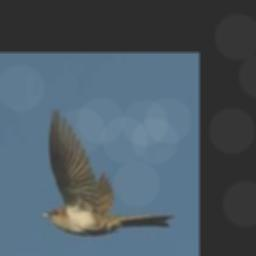Cuckoo: (42, 108, 175, 234)
